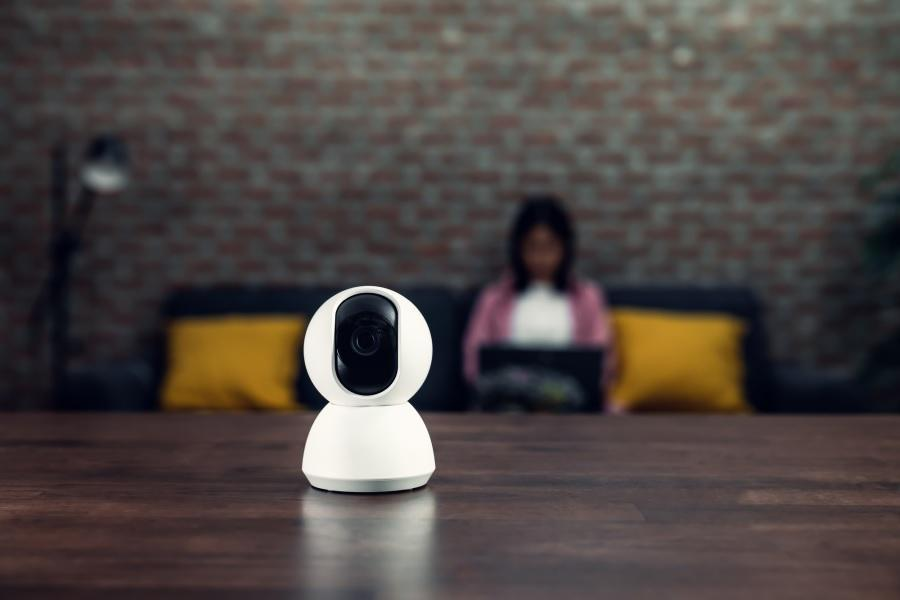maru: (299, 254, 464, 524)
